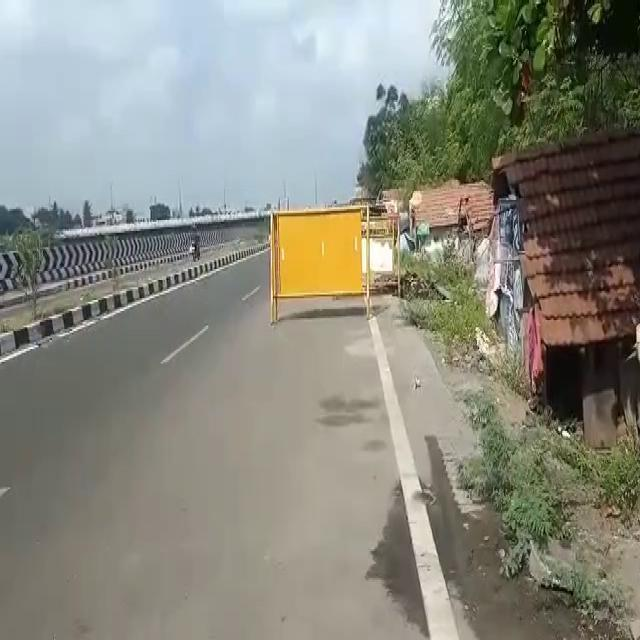fallen_object: (246, 175, 396, 345)
